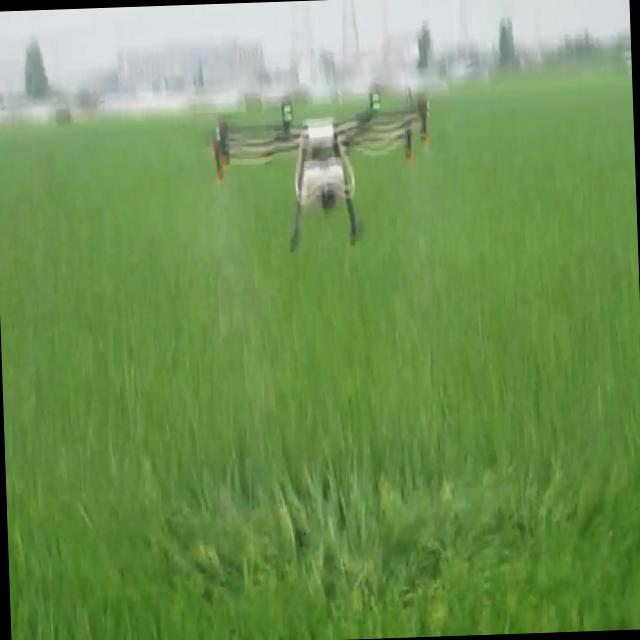drone: (203, 80, 433, 257)
